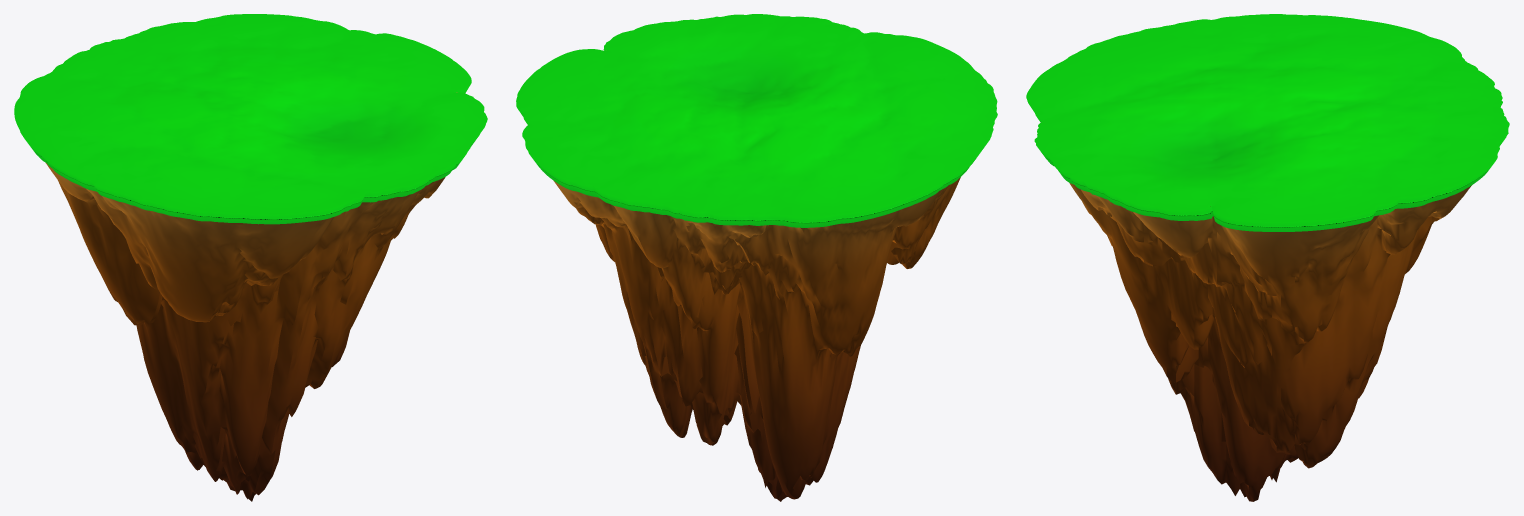
Rendered from island_fly_1.fbx.
3 views of the same model, side by side, from view 1: azimuth 30°, elevation 25°; view 2: azimuth 150°, elevation 25°; view 3: azimuth 270°, elevation 25° (orthographic). The views are drawn at different scales.
Visible parts, largest first — view 1: Landscape.004, Landscape.002; view 2: Landscape.004, Landscape.002; view 3: Landscape.004, Landscape.002.
Part boxes in pixels (bbox=[...]): Landscape.004: bbox=[14, 14, 487, 224]; Landscape.002: bbox=[46, 92, 457, 501]; Landscape.004: bbox=[516, 14, 997, 227]; Landscape.002: bbox=[553, 177, 960, 501]; Landscape.004: bbox=[1026, 14, 1509, 231]; Landscape.002: bbox=[1069, 183, 1471, 501].
Size of the model in its own units: 170 by 166 by 151.
